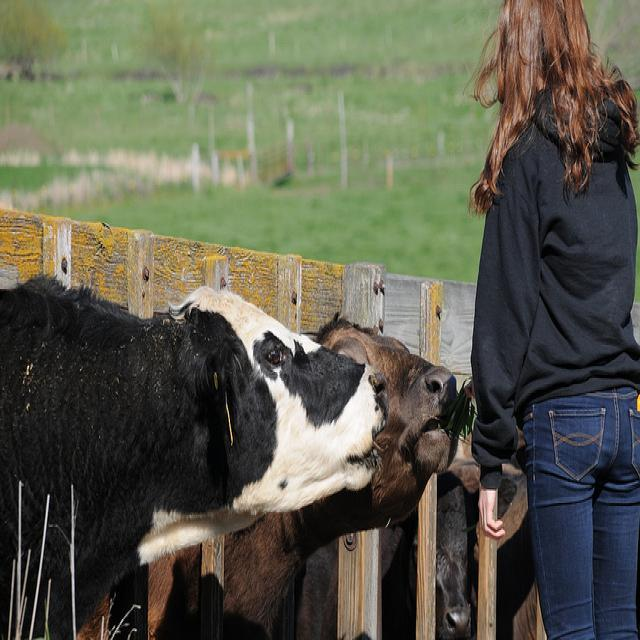cow: (0, 267, 390, 639), (75, 318, 456, 639), (294, 457, 476, 636)
